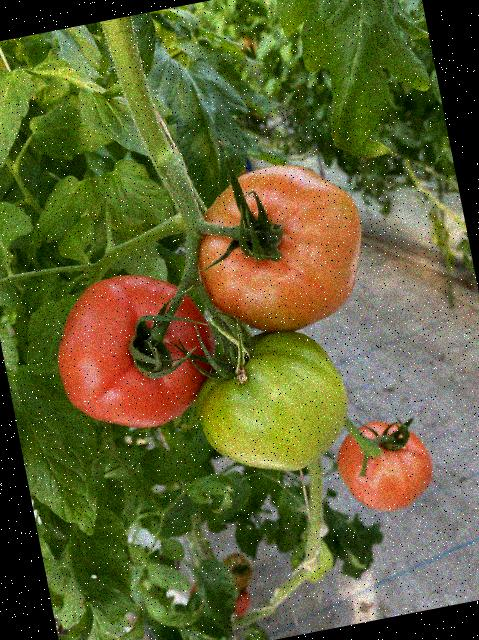b_fully_ripened: (41, 259, 228, 443)
b_green: (184, 318, 359, 487)
b_half_ripened: (180, 151, 378, 346), (329, 412, 438, 519)
